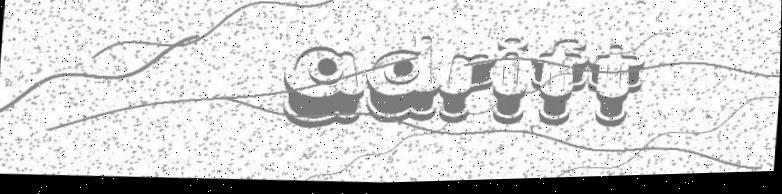a: (279, 45, 367, 134)
d: (362, 34, 442, 131)
f: (526, 40, 592, 132)
i: (487, 39, 531, 130)
r: (437, 54, 496, 128)
t: (585, 46, 648, 134)
